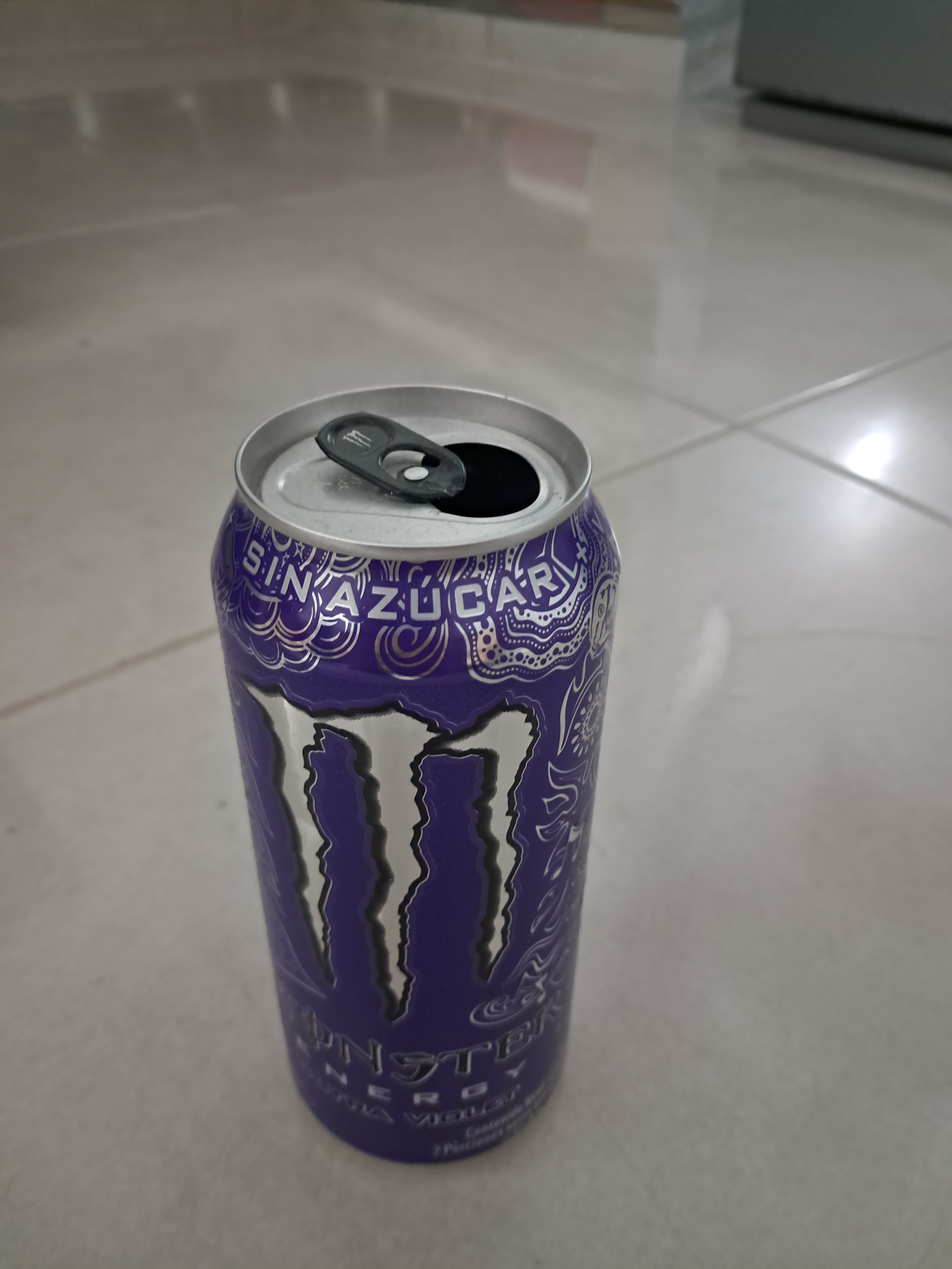energy_drink: (212, 387, 619, 1162)
